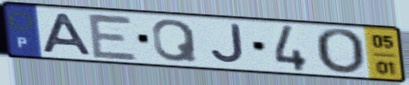4: (272, 23, 310, 74)
A: (41, 12, 95, 57)
E: (85, 11, 142, 63)
J: (208, 22, 248, 66)
O: (312, 27, 367, 77)
Q: (151, 18, 201, 64)
